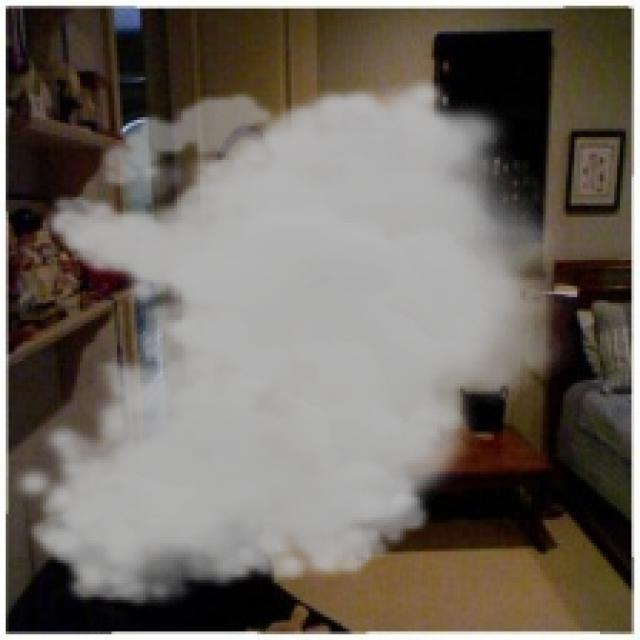Smoke: (9, 74, 578, 609)
